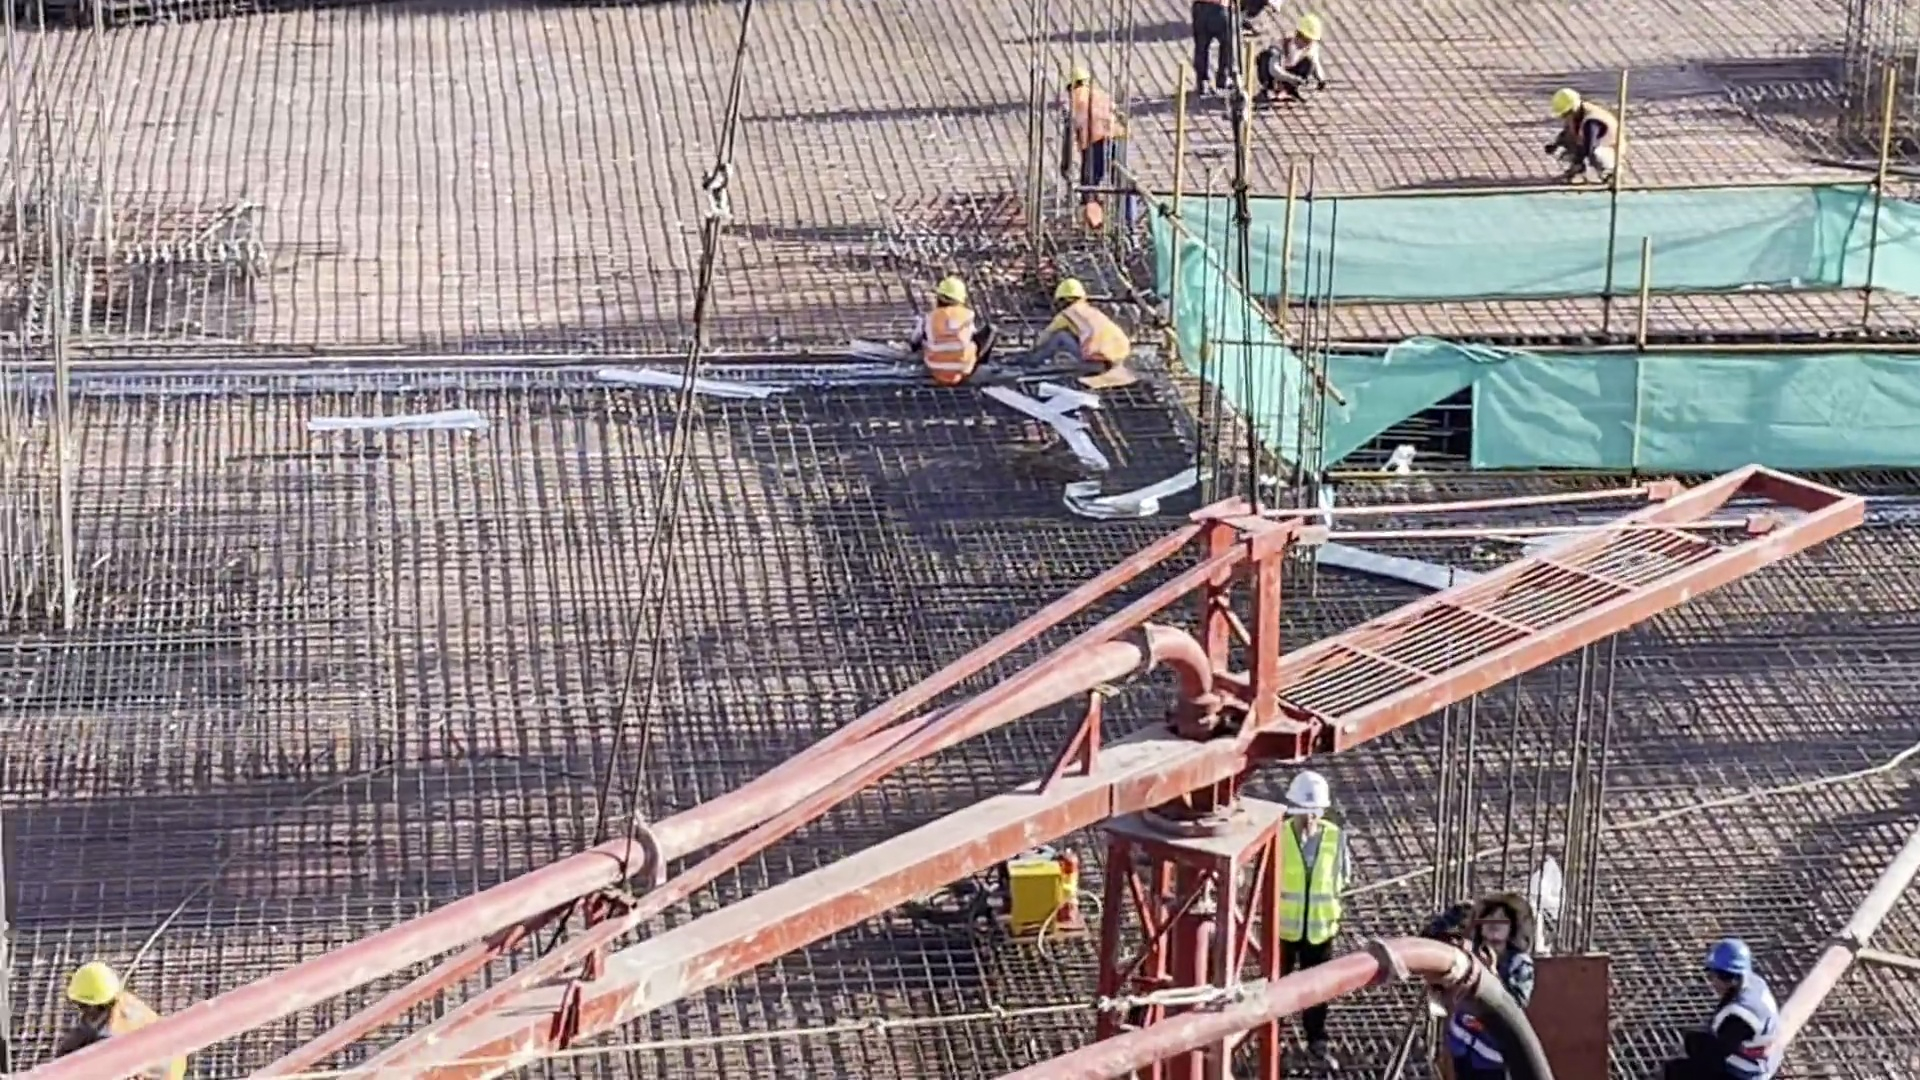helmet: (1286, 775, 1340, 820), (1696, 938, 1758, 971), (1498, 888, 1540, 930), (1051, 275, 1092, 301), (936, 275, 969, 305), (1288, 14, 1323, 42), (1061, 63, 1096, 89), (1554, 83, 1582, 107)
person: (1260, 772, 1360, 1075), (1408, 880, 1555, 1080), (1041, 61, 1147, 238), (1662, 934, 1784, 1080), (51, 949, 178, 1080), (1014, 271, 1135, 393), (906, 272, 1000, 390), (1538, 78, 1623, 189), (1251, 11, 1328, 116), (1173, 1, 1244, 102)
vest: (1451, 948, 1525, 1064), (1273, 825, 1347, 940), (1725, 1002, 1782, 1080), (919, 314, 975, 392), (1061, 307, 1125, 365), (1071, 101, 1121, 140), (1575, 107, 1613, 155), (1273, 49, 1316, 72)
